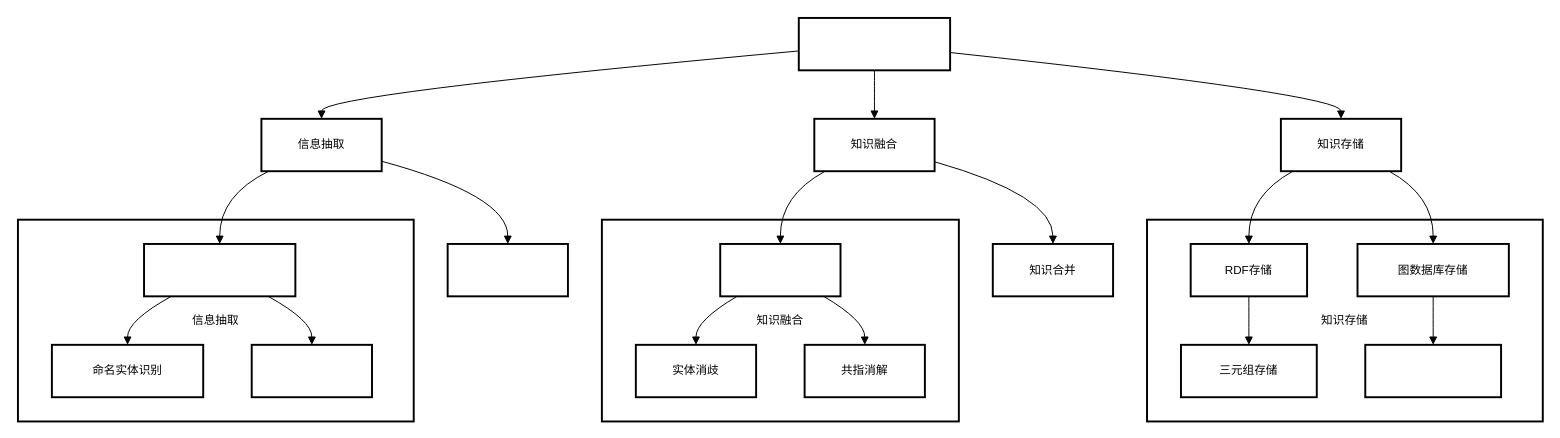
The diagram is 1560 pixels wide and 438 high, and some of its shapes have lost their labels. Here are the shapes that lost their labels. From the top down, the centre of each, then its label:
At (874,43): "知识图谱构建".
At (219,269): "实体关系抽取".
At (507,269): "属性抽取".
At (780,269): "实体链接".
At (311,370): "关系分类".
At (1433,370): "图结构存储".
